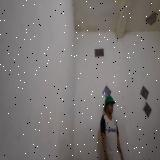Helmet: (105, 94, 116, 106)
